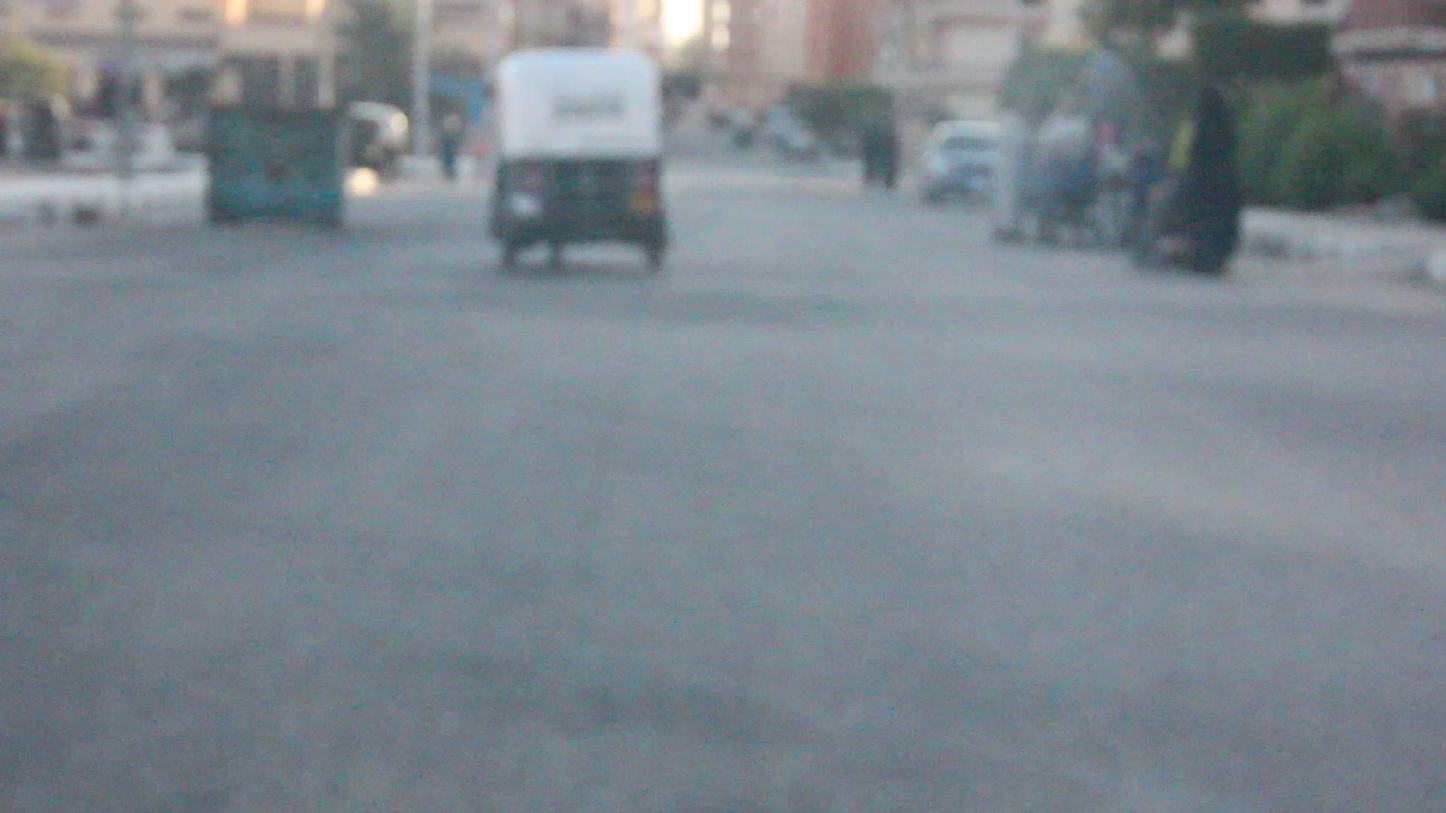Bump: (2, 279, 1446, 352)
